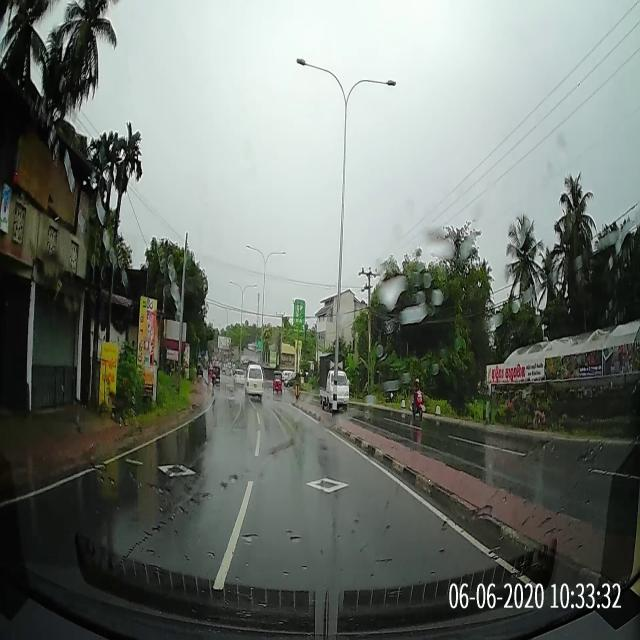diamond: (222, 464, 440, 542)
